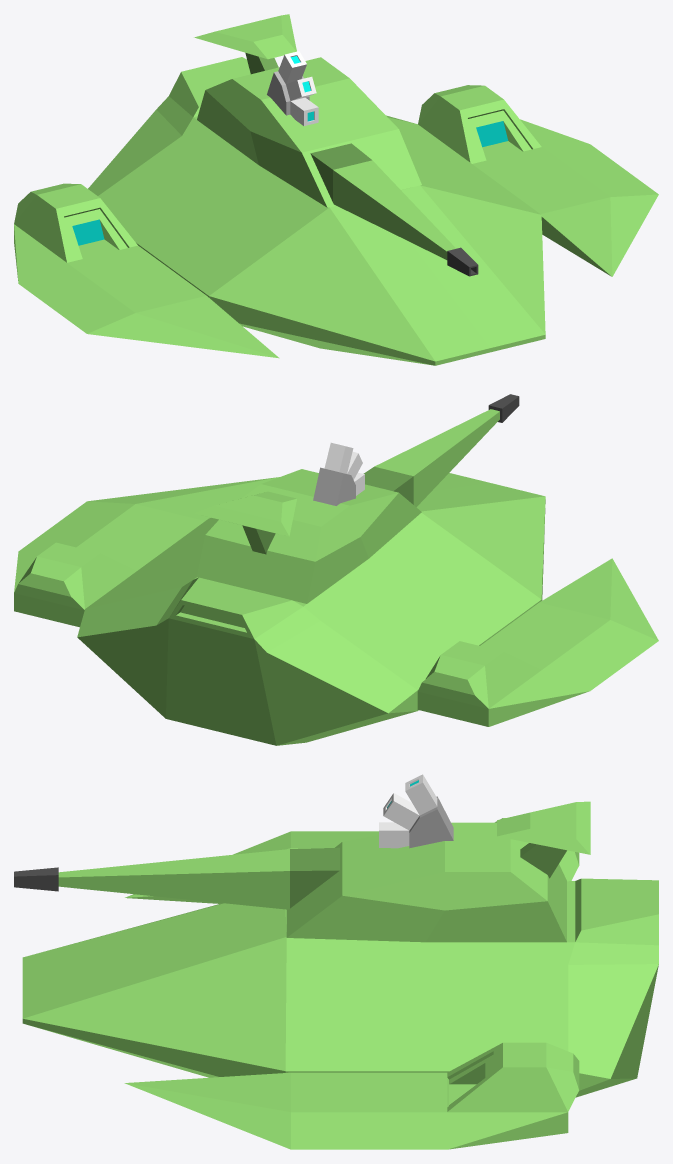
File: Hover Tank.fbx
3 renders of one model, top to bottom at view 1: azimuth 30°, elevation 25°; view 2: azimuth 150°, elevation 25°; view 3: azimuth 270°, elevation 25°, orthographic. The views are drawn at different scales.
Visible parts, largest first — view 1: Tank; view 2: Tank; view 3: Tank.
Boxes of the visible parts, <box> form: Tank: <box>14,14,658,365</box>; Tank: <box>14,394,658,745</box>; Tank: <box>14,774,658,1149</box>.
Bounding box in the file's own units: 16.39 × 6.67 × 14.03.
